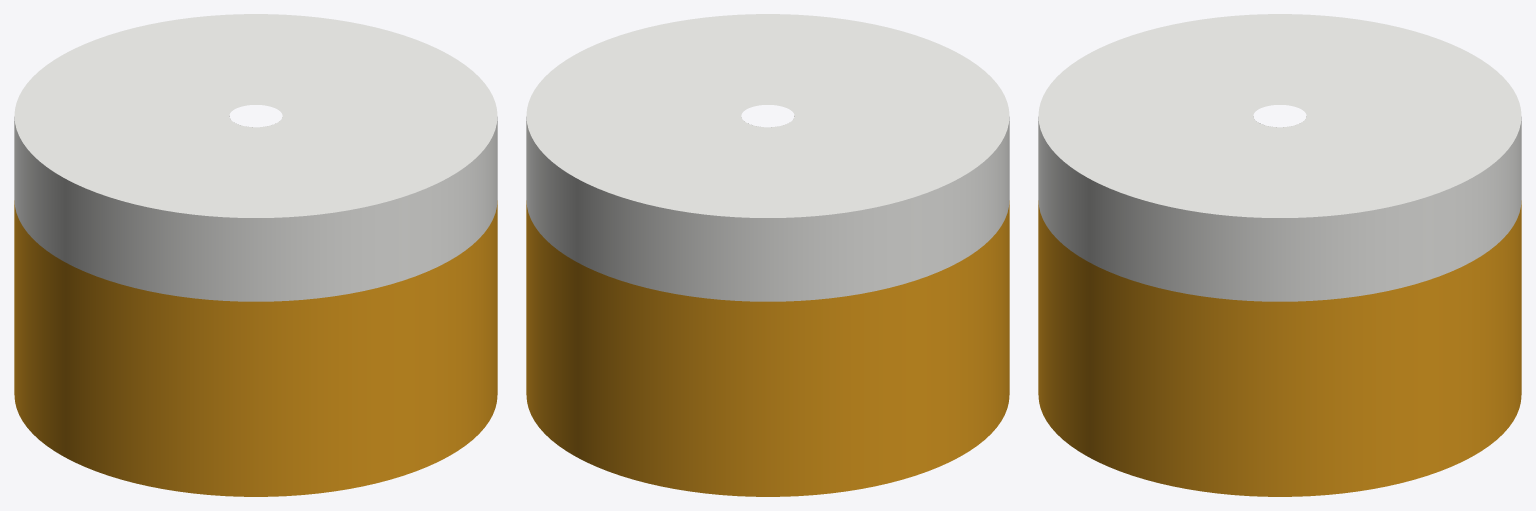
3 views of the same model, side by side, from view 1: azimuth 30°, elevation 25°; view 2: azimuth 150°, elevation 25°; view 3: azimuth 270°, elevation 25° (orthographic).
Parts seen in each view (by area): view 1: WG100; view 2: WG100; view 3: WG100.
Boxes of the visible parts, x1,y1,x2,y2 form: WG100: (14, 14, 497, 496); WG100: (526, 14, 1009, 496); WG100: (1038, 14, 1521, 496).
Bounding box in the file's own units: 0.179 × 0.114 × 0.179.
